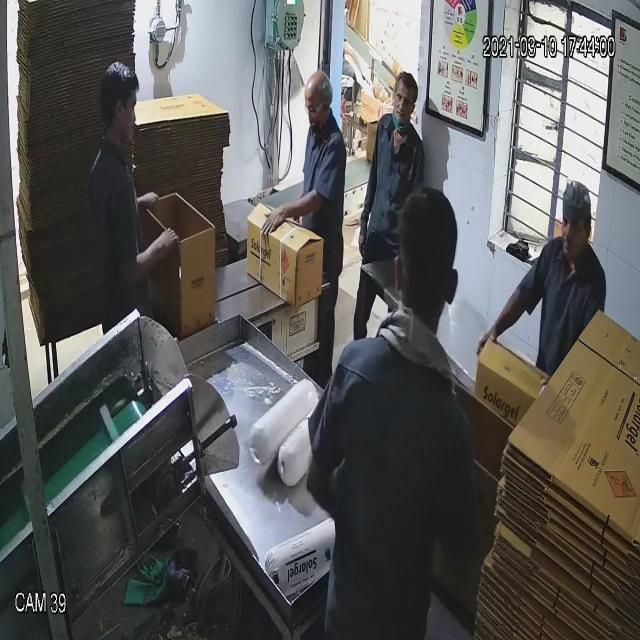No_Gloves: (67, 62, 498, 319)
